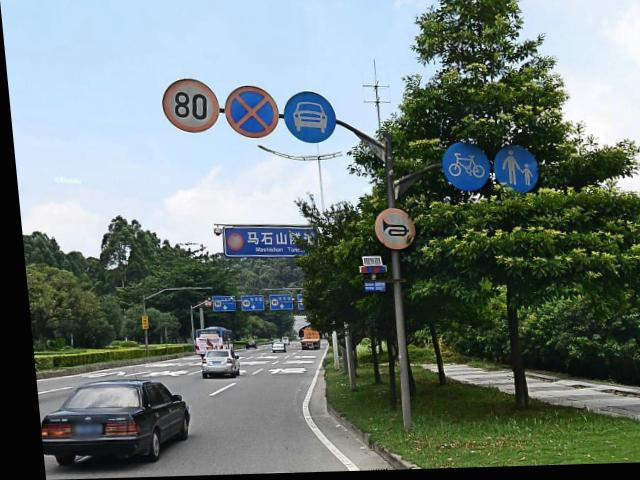limit80: (157, 78, 220, 138)
